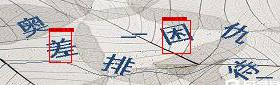chinese: (99, 51, 140, 78), (12, 14, 54, 39), (158, 21, 197, 47), (43, 37, 80, 62), (226, 57, 258, 83), (221, 21, 249, 46)
